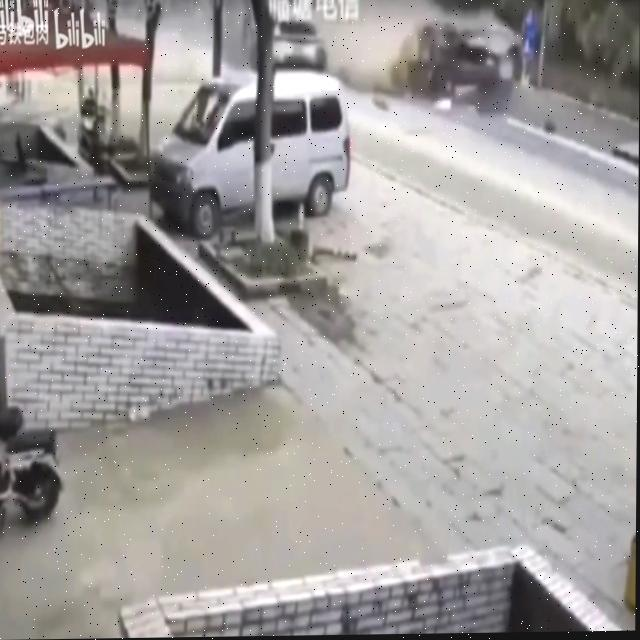normal: (142, 47, 398, 268)
single accident: (367, 0, 543, 133)
